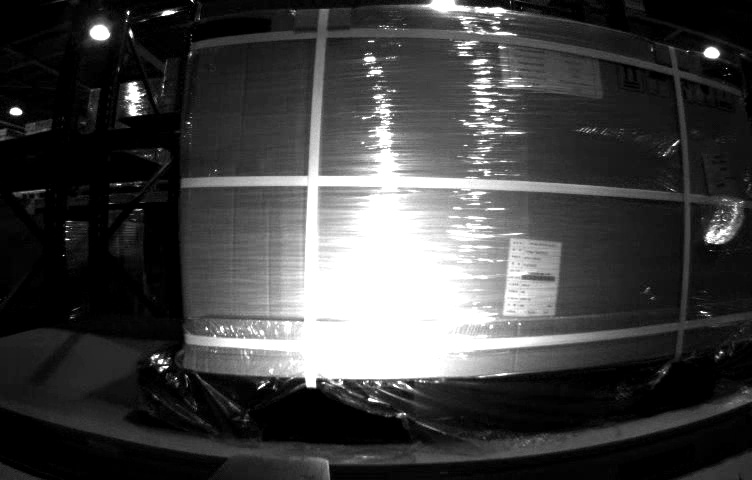True Barcode: (702, 153, 739, 195)
